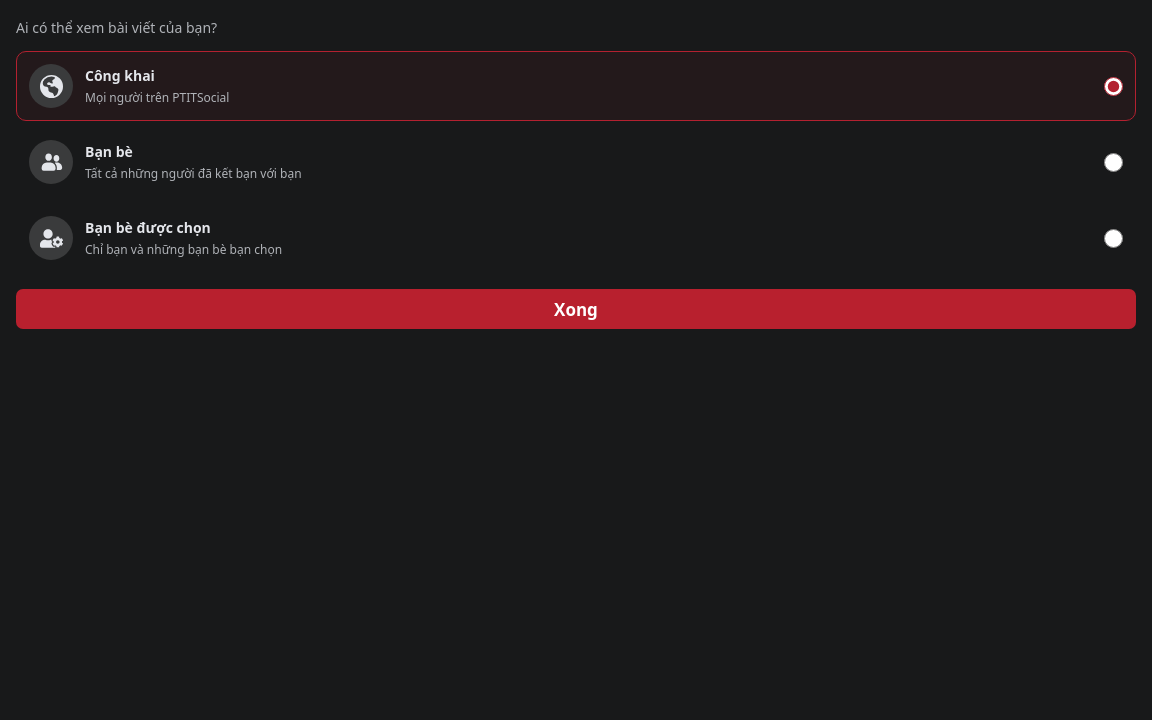
shows an empty state and prevents confirming selected friends when none exist
Click the radio button labelled "Bạn bè được chọn Chỉ bạn và những bạn bè bạn chọn": (1114, 238) [1104,228,1123,248]
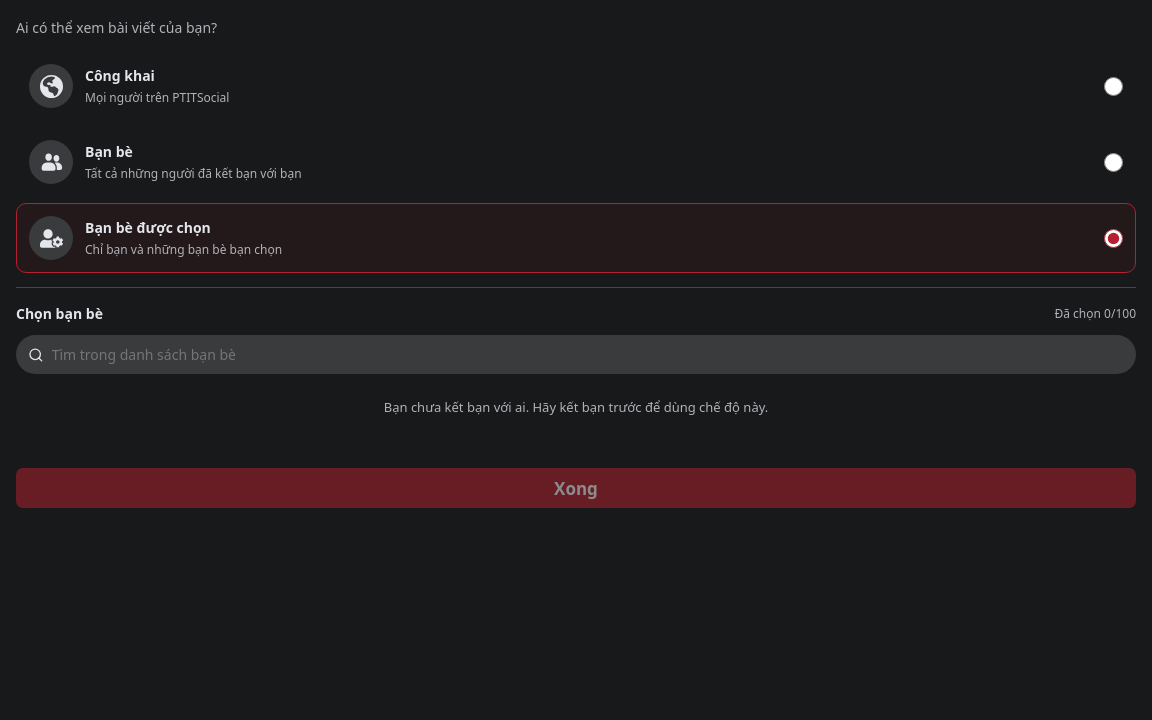
Expected: the text "Bạn chưa kết bạn với ai" is shown, [384,398,768,416]
Expected: the button "Xong" is disabled, [16,468,1136,508]
